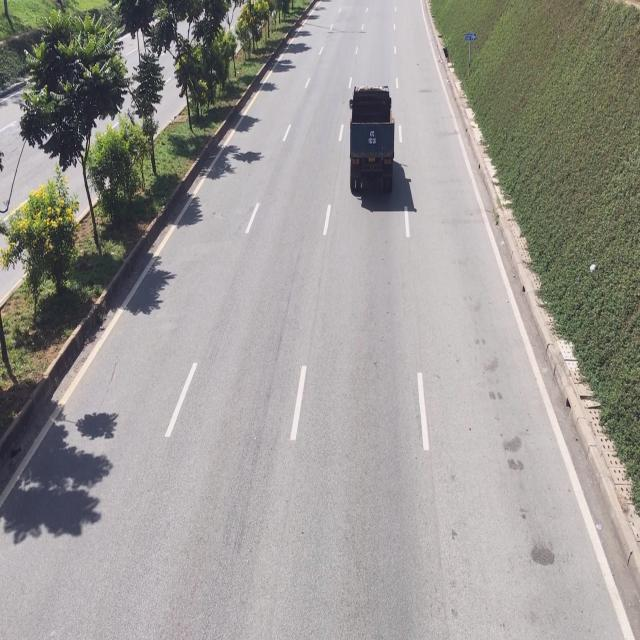truck: (348, 87, 395, 198)
